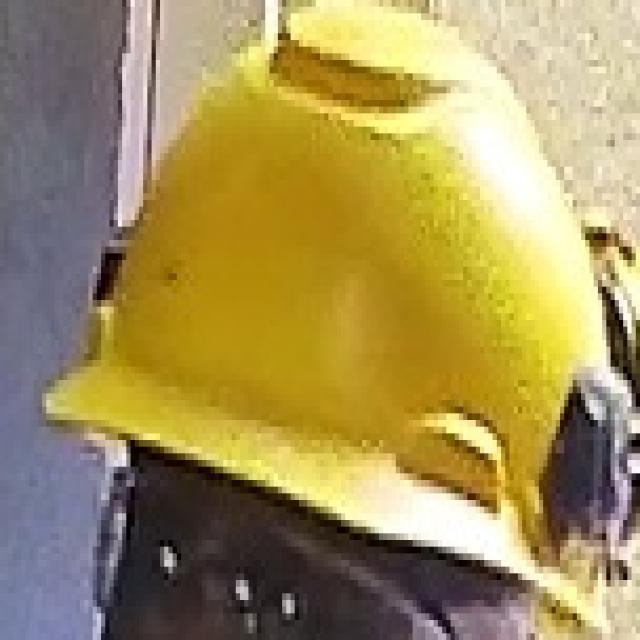yellow helmet: (40, 1, 640, 627)
